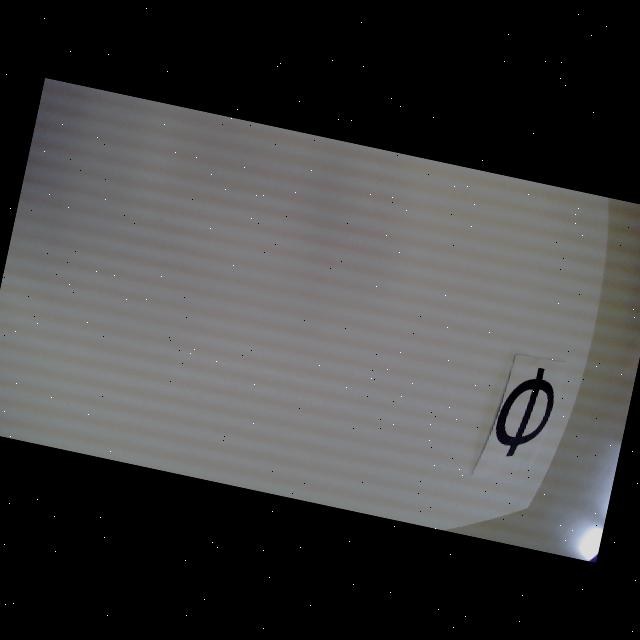PHI: (491, 360, 560, 463)
